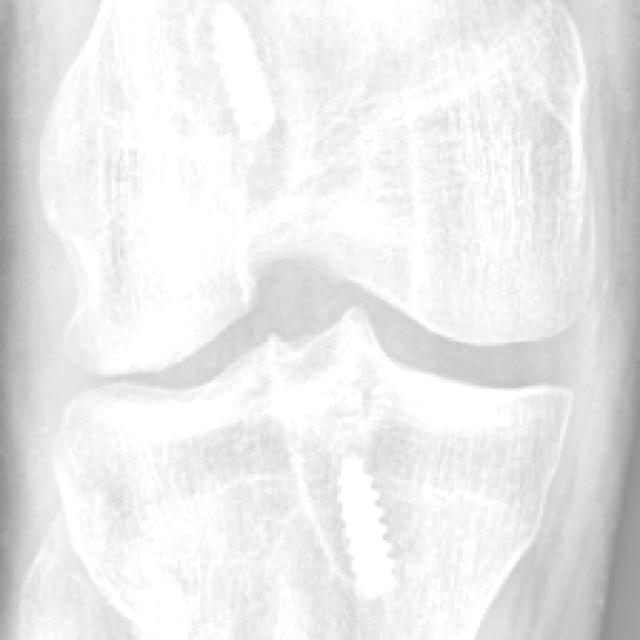femur: (37, 0, 599, 377)
tibia: (50, 300, 574, 640)
